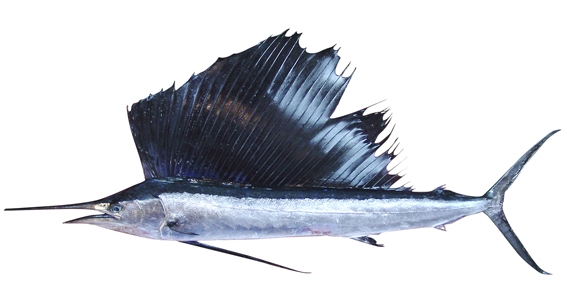fish: (5, 28, 561, 278)
